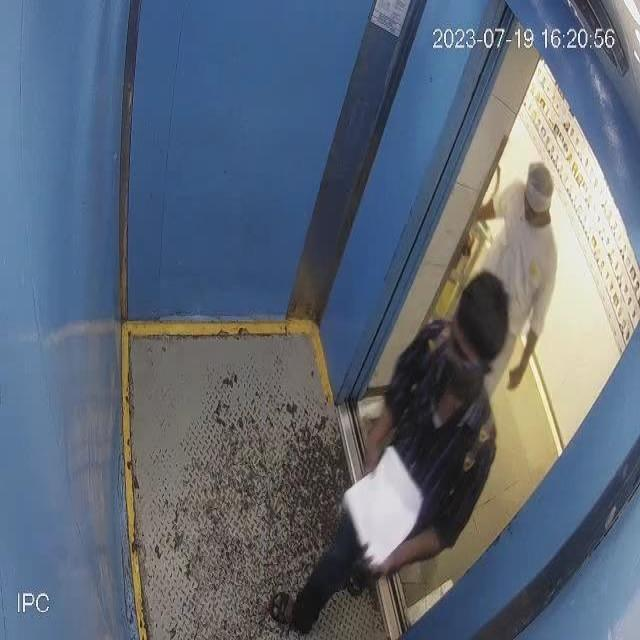person: (264, 265, 518, 640), (466, 137, 560, 372)
